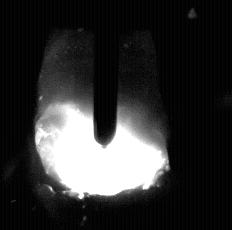arame: (94, 0, 119, 149)
poca: (34, 0, 166, 230)
